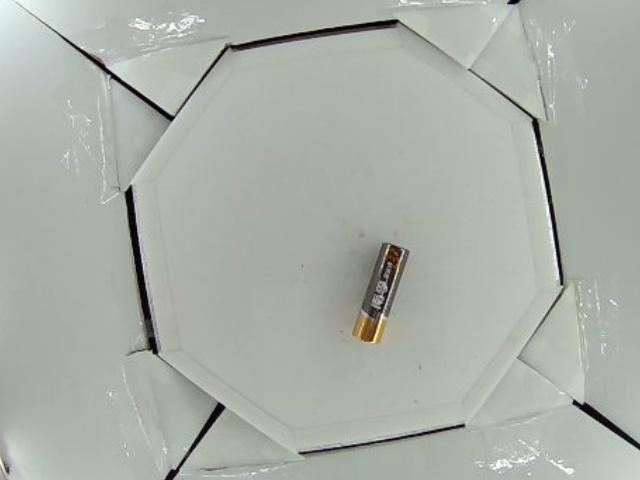Battery: (349, 242, 412, 342)
